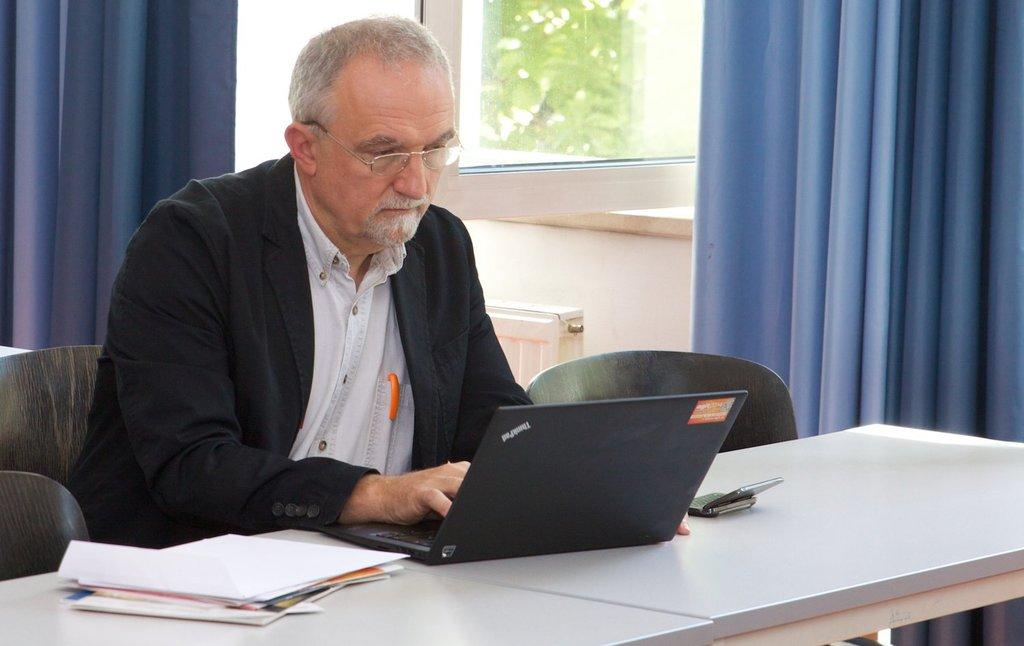Laptop: (274, 382, 754, 579)
